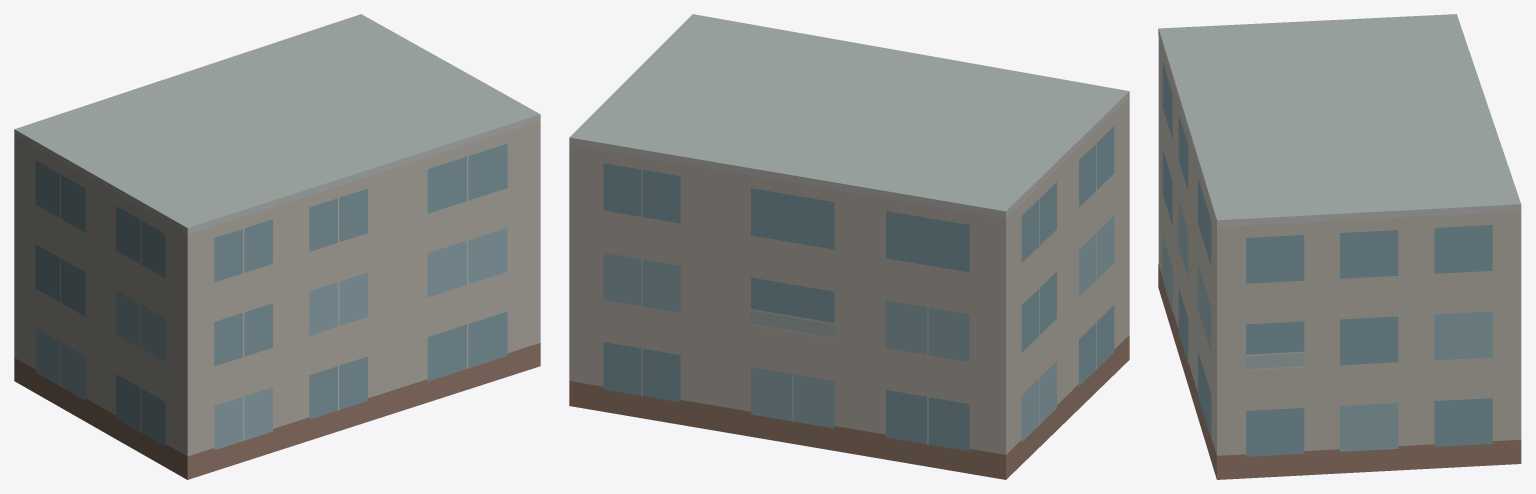
The model's file is survey-upis-32989974.glb.
3 views of the same model, side by side, from view 1: azimuth 30°, elevation 25°; view 2: azimuth 150°, elevation 25°; view 3: azimuth 270°, elevation 25° (orthographic). The views are drawn at different scales.
Visible parts, largest first — view 1: survey-upis-32989974.tmp; view 2: survey-upis-32989974.tmp; view 3: survey-upis-32989974.tmp.
Boxes of the visible parts, left/top/right/bottom form: survey-upis-32989974.tmp: left=14, top=14, right=540, bottom=479; survey-upis-32989974.tmp: left=569, top=14, right=1129, bottom=479; survey-upis-32989974.tmp: left=1158, top=14, right=1521, bottom=479.
Bounding box in the file's own units: 15.6 × 9.15 × 11.6.
